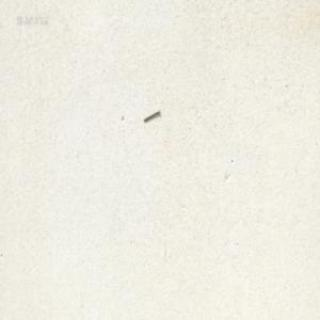Bolttrack_idkeyframe: (142, 107, 159, 121)
